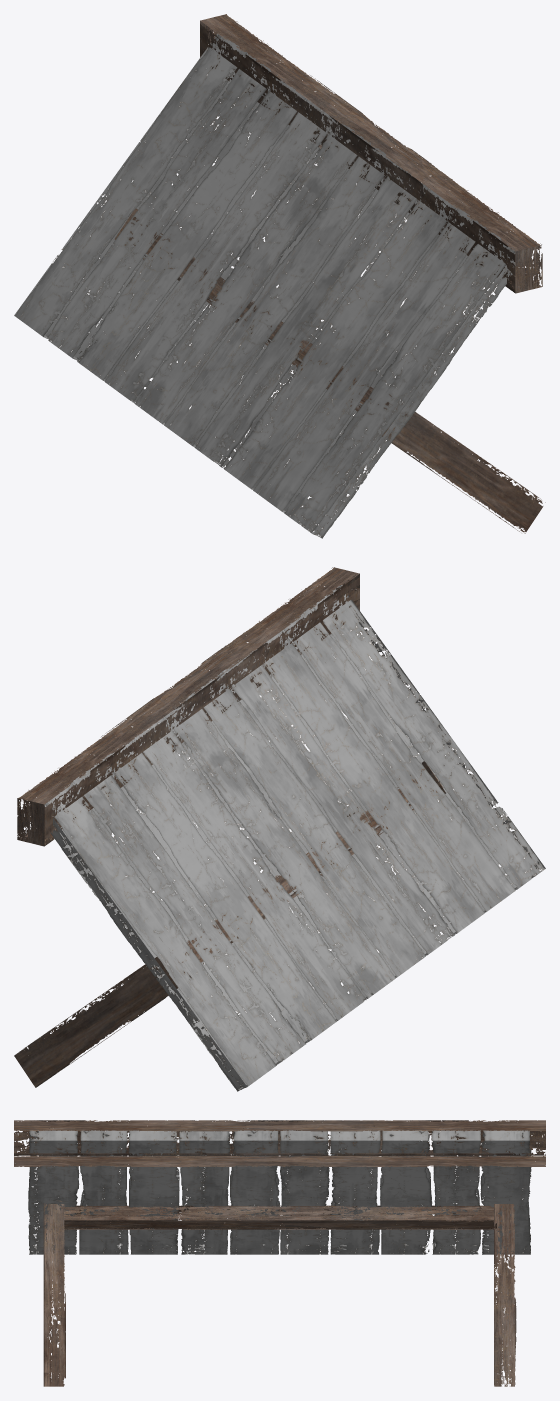
Rendered from SM_porch_roof_03.fbx.
3 views of the same model, one above another, from view 1: azimuth 30°, elevation 25°; view 2: azimuth 150°, elevation 25°; view 3: azimuth 270°, elevation 25° (orthographic). The views are drawn at different scales.
Parts seen in each view (by area): view 1: SM_porch_roof_03_LOD0; view 2: SM_porch_roof_03_LOD0; view 3: SM_porch_roof_03_LOD0.
Part boxes in pixels (box(x1,y1,x2,y2)): SM_porch_roof_03_LOD0: box(14, 14, 545, 538); SM_porch_roof_03_LOD0: box(14, 567, 545, 1091); SM_porch_roof_03_LOD0: box(14, 1120, 545, 1386).
Size of the model in its own units: 93.88 by 211 by 112.
Materials: 2 (2 with a texture image).
